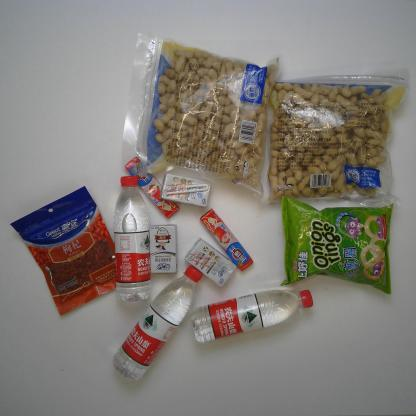Candy: (121, 156, 182, 219), (198, 207, 255, 271)
Dried Food: (118, 32, 285, 196), (269, 66, 414, 210)
Dried Fruit: (8, 184, 115, 320)
Drink: (112, 258, 209, 383), (191, 282, 316, 349), (108, 175, 155, 304)
Milk: (182, 236, 239, 288), (157, 171, 215, 208), (148, 222, 180, 274)
Puffed Food: (276, 196, 399, 297)
